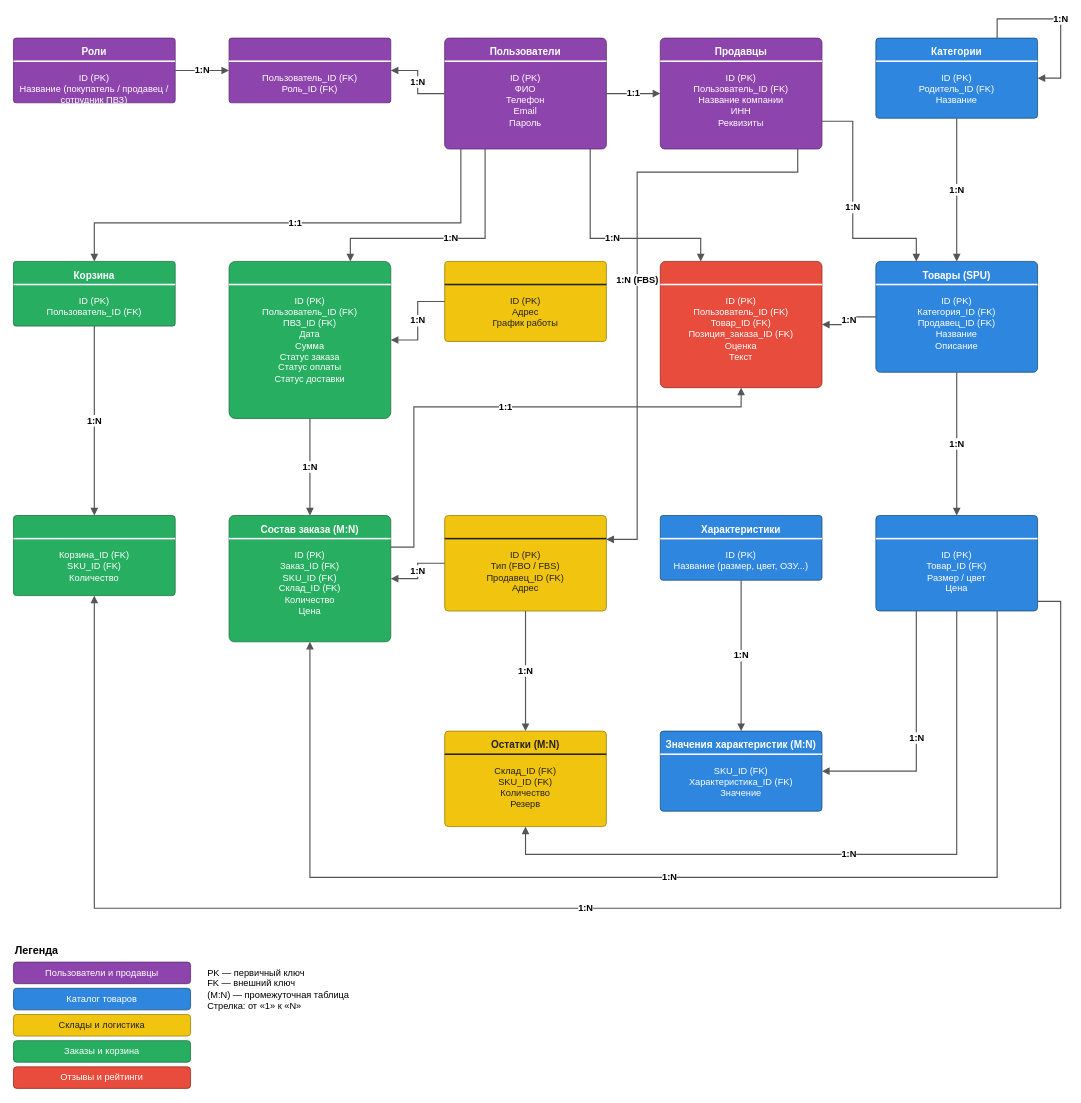
Some shapes in this 1081 by 1103 pixel diagram are drawn without their labels. The shapes that lost their labels are listed below. From the top down, each one's box as (x1, y1, x2, y2) in pixels, then its label:
(228, 37, 391, 103): Роли пользователей (M:N)
(444, 261, 606, 341): ПВЗ
(228, 261, 391, 418): Заказы
(660, 261, 822, 388): Отзывы
(13, 515, 175, 596): Позиции корзины (M:N)
(444, 515, 606, 611): Склады
(875, 515, 1038, 611): SKU (вариант товара)
